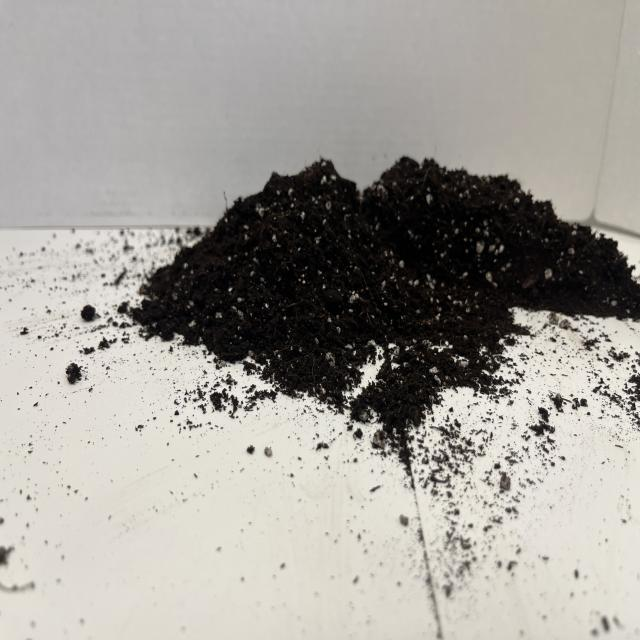soil: (123, 152, 638, 444)
